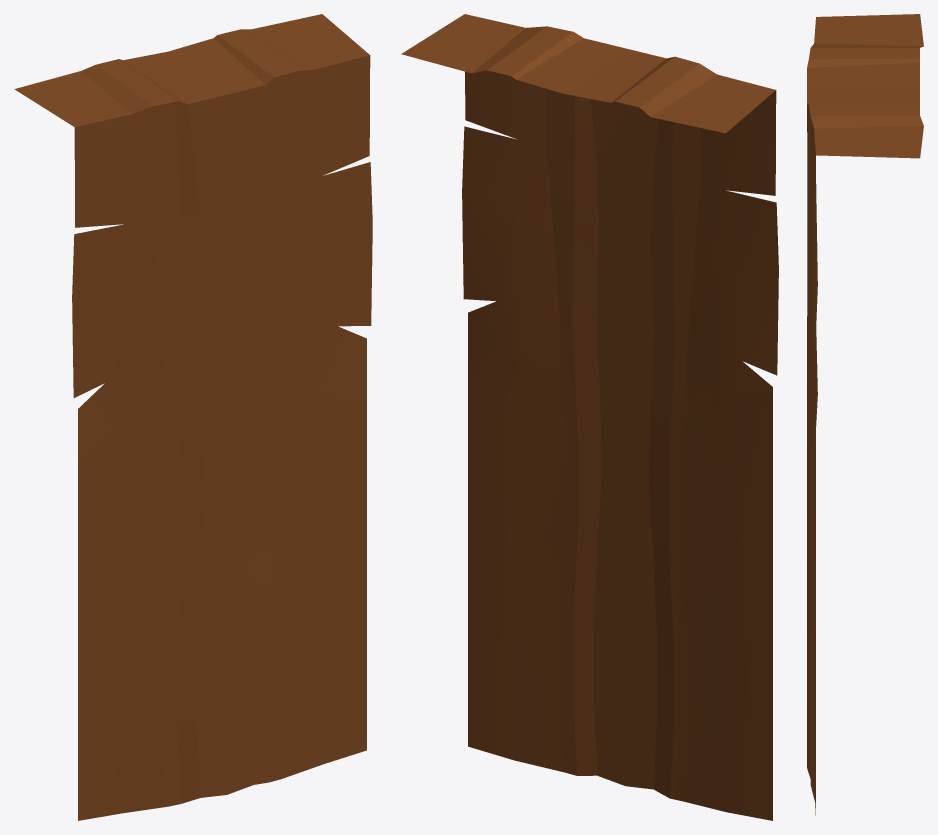
The model's file is Flag_Wall.glb.
3 renders of one model, left to right at view 1: azimuth 30°, elevation 25°; view 2: azimuth 150°, elevation 25°; view 3: azimuth 270°, elevation 25°, orthographic. The views are drawn at different scales.
Visible parts, largest first — view 1: Flag_Wall; view 2: Flag_Wall; view 3: Flag_Wall.
Part boxes in pixels (bbox=[...]): Flag_Wall: bbox=[14, 14, 372, 820]; Flag_Wall: bbox=[401, 14, 778, 820]; Flag_Wall: bbox=[807, 14, 923, 815].
Bounding box in the file's own units: 0.4617 × 1.01 × 0.158.
